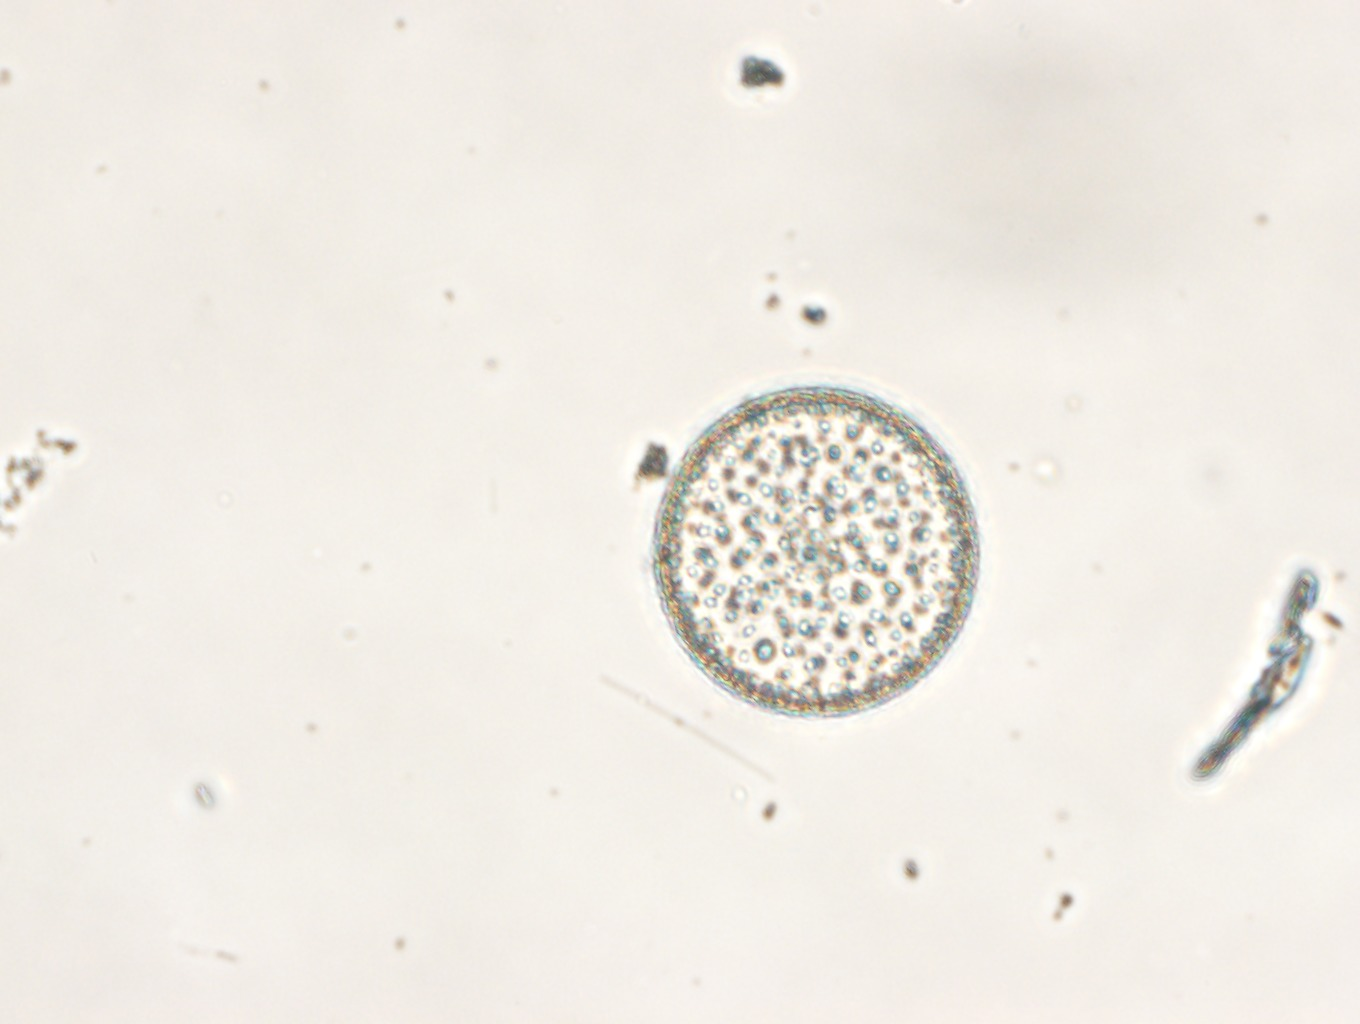coscinodiscus: (650, 384, 980, 717)
